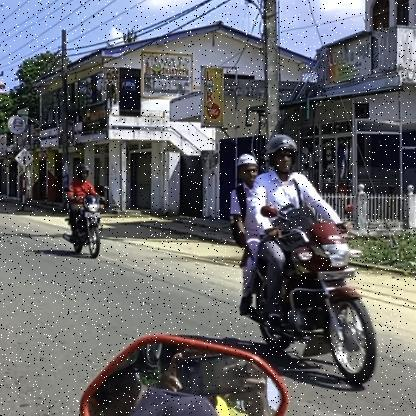motorcycle: (236, 200, 385, 388), (62, 192, 113, 260)
